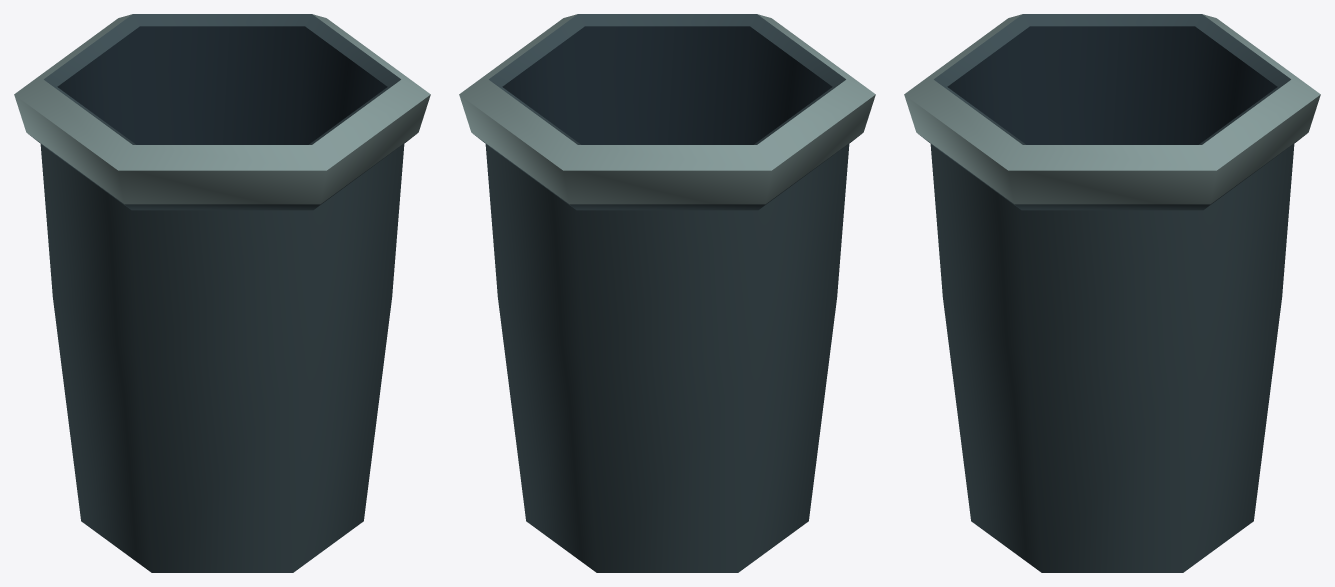
Rendered from Trashcan2.fbx.
3 views of the same model, side by side, from view 1: azimuth 30°, elevation 25°; view 2: azimuth 150°, elevation 25°; view 3: azimuth 270°, elevation 25° (orthographic).
Parts seen in each view (by area): view 1: Trashcan2; view 2: Trashcan2; view 3: Trashcan2.
Boxes of the visible parts, <box> form: Trashcan2: <box>14,14,430,572</box>; Trashcan2: <box>459,14,875,572</box>; Trashcan2: <box>904,14,1320,572</box>.
Bounding box in the file's own units: 30.2 × 40.79 × 34.88.
